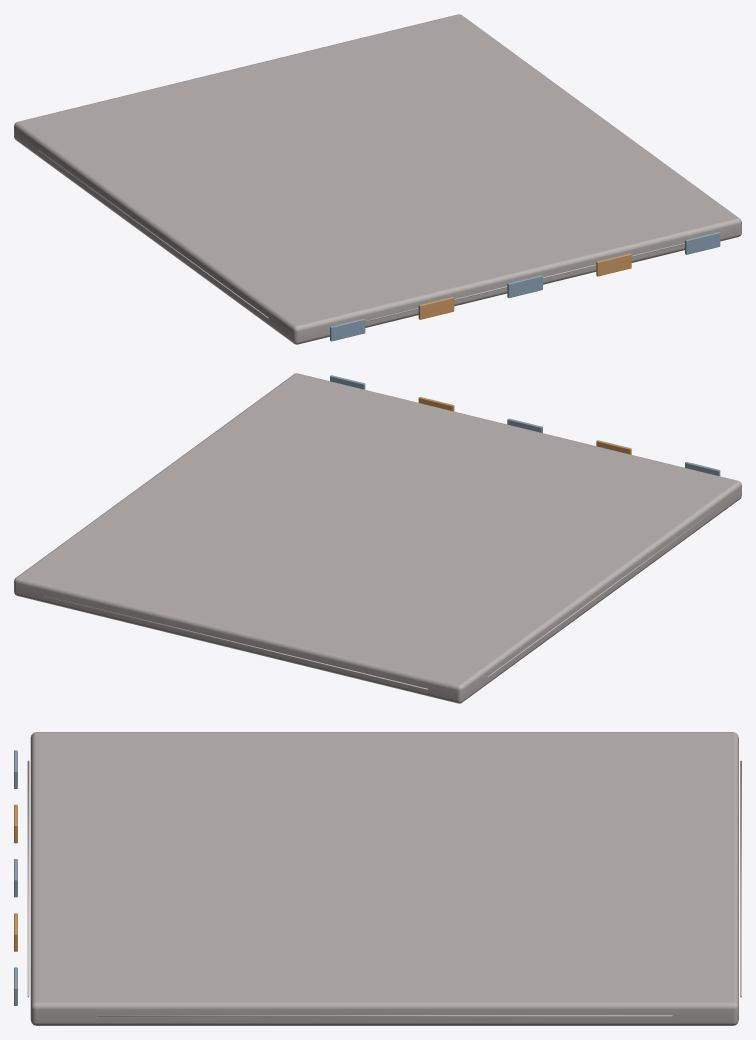
The model's file is colcha-riscas.glb.
3 views of the same model, one above another, from view 1: azimuth 30°, elevation 25°; view 2: azimuth 150°, elevation 25°; view 3: azimuth 270°, elevation 25° (orthographic). The views are drawn at different scales.
Visible parts, largest first — view 1: Almofada interior, Padrao tecido.001, Padrao tecido.003, Padrao tecido, Padrao tecido.002, Padrao tecido.004; view 2: Almofada interior, Pesponto lateral.001; view 3: Almofada interior, Pesponto de canto.001, Pesponto lateral.
Part boxes in pixels (bbox=[...]): Almofada interior: bbox=[14, 14, 741, 344]; Padrao tecido.001: bbox=[418, 296, 454, 319]; Padrao tecido.003: bbox=[596, 253, 631, 276]; Padrao tecido: bbox=[330, 318, 365, 341]; Padrao tecido.002: bbox=[507, 275, 542, 297]; Padrao tecido.004: bbox=[685, 231, 720, 254]; Almofada interior: bbox=[14, 373, 741, 703]; Pesponto lateral.001: bbox=[43, 595, 428, 689]; Almofada interior: bbox=[30, 732, 738, 1025]; Pesponto de canto.001: bbox=[97, 1015, 672, 1016]; Pesponto lateral: bbox=[27, 760, 29, 997].
Bounding box in the file's own units: 2.01 × 0.0792 × 2.25.
